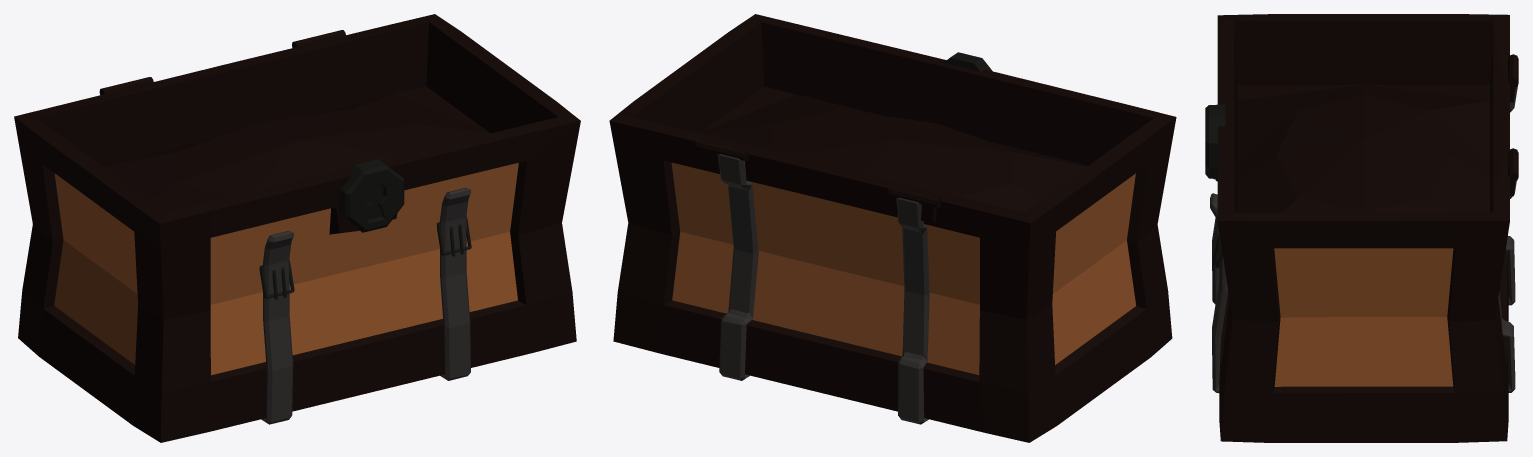
Rendered from chest_base.obj.
The picture shows the model from 3 angles, left to right: view 1: azimuth 30°, elevation 25°; view 2: azimuth 150°, elevation 25°; view 3: azimuth 270°, elevation 25°; orthographic projection.
Visible parts, largest first — view 1: chest; view 2: chest; view 3: chest.
Boxes of the visible parts, x1=… form: chest: x1=14, y1=14, x2=580, y2=442; chest: x1=609, y1=14, x2=1176, y2=442; chest: x1=1205, y1=14, x2=1518, y2=442.
Bounding box in the file's own units: 0.4868 × 0.2604 × 0.3115.
